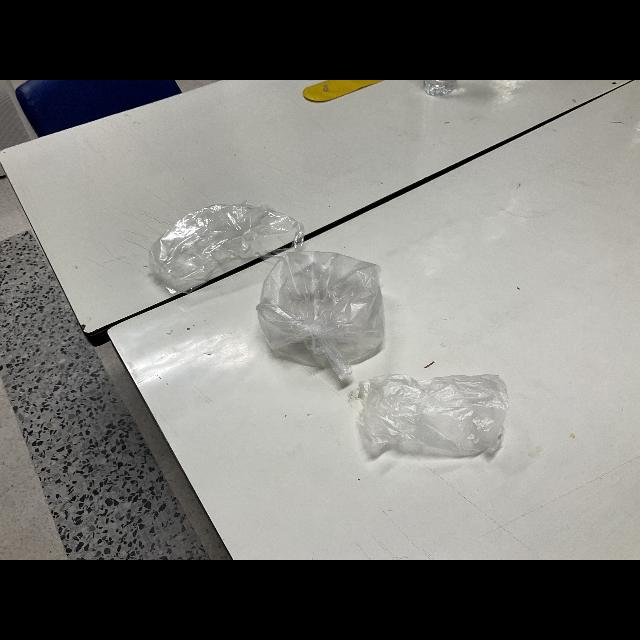plastic_bag: (255, 248, 383, 380), (139, 200, 307, 290), (360, 370, 510, 470)
